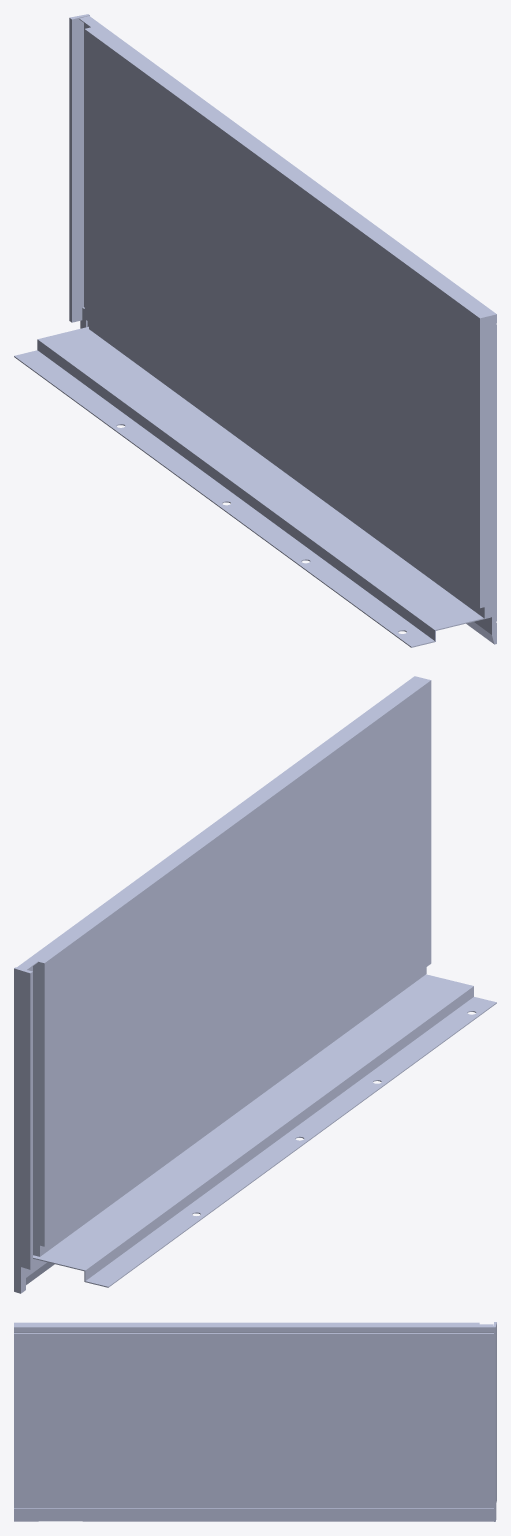
The model's file is lg-kava-F550-m.glb.
3 views of the same model, one above another, from view 1: azimuth 30°, elevation 25°; view 2: azimuth 150°, elevation 25°; view 3: azimuth 270°, elevation 25° (orthographic). The views are drawn at different scales.
Visible parts, largest first — view 1: 41653089; view 2: 41653089; view 3: 41653089.
Part boxes in pixels (left/top/right/bottom): 41653089: left=14, top=14, right=496, bottom=647; 41653089: left=14, top=676, right=496, bottom=1293; 41653089: left=14, top=1322, right=496, bottom=1521.
Bounding box in the file's own units: 0.0653 × 0.2417 × 0.5435.
